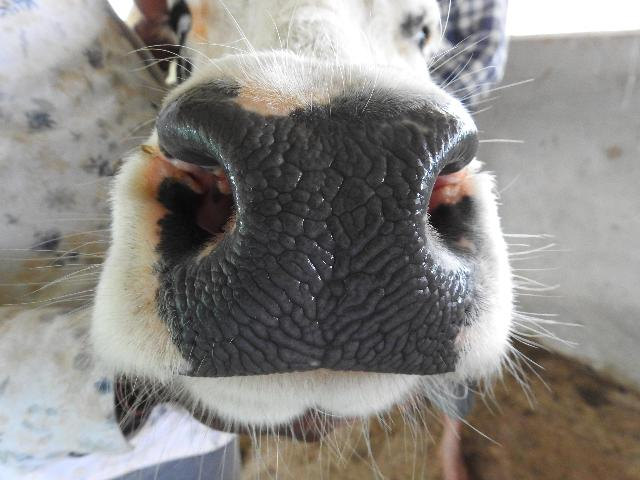Muzzle: (204, 119, 444, 375)
